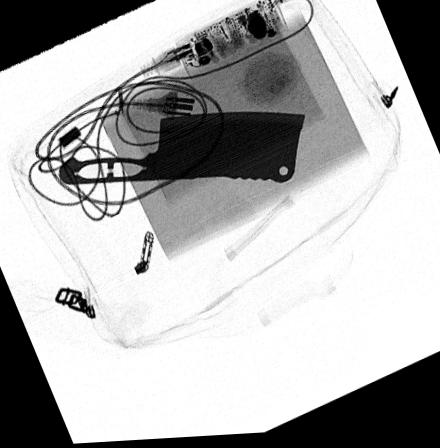Knife: (58, 113, 305, 188)
